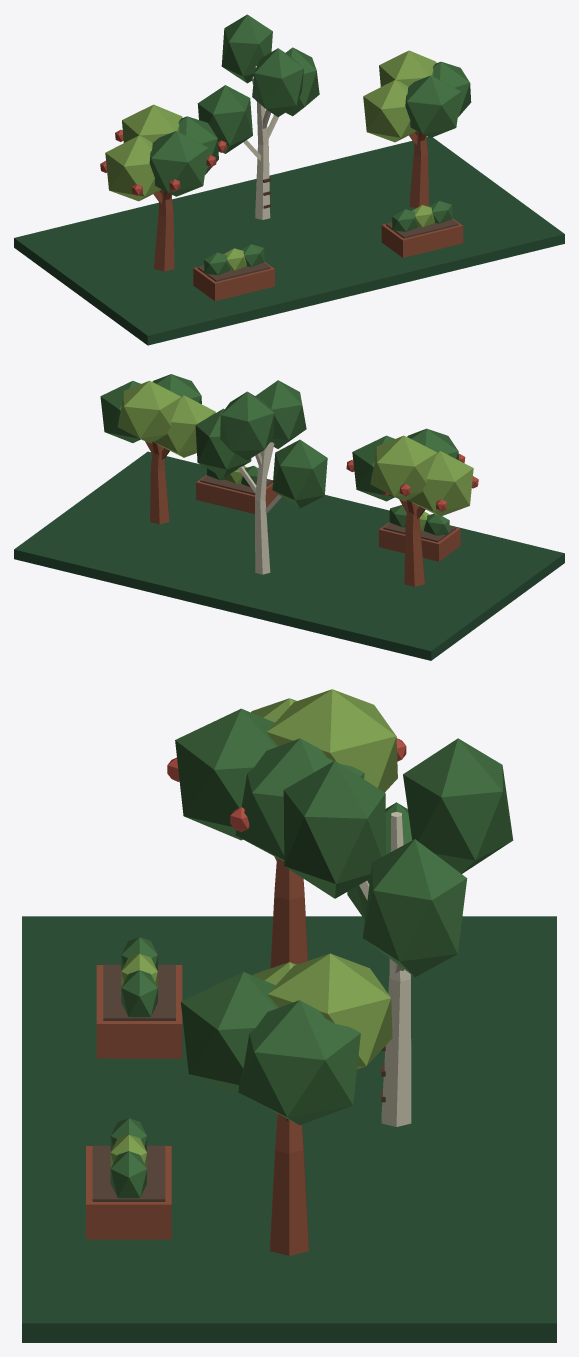
The model's file is Backyard_GardenGrove_Simple.glb.
The picture shows the model from 3 angles, top to bottom: view 1: azimuth 30°, elevation 25°; view 2: azimuth 150°, elevation 25°; view 3: azimuth 270°, elevation 25°; orthographic projection. The views are drawn at different scales.
Parts seen in each view (by area): view 1: Backyard_GardenGrove_Simple; view 2: Backyard_GardenGrove_Simple; view 3: Backyard_GardenGrove_Simple.
Boxes of the visible parts, x1,y1,x2,y2 form: Backyard_GardenGrove_Simple: (14, 14, 564, 345); Backyard_GardenGrove_Simple: (14, 374, 564, 660); Backyard_GardenGrove_Simple: (22, 689, 556, 1342).
Bounding box in the file's own units: 9 × 4.13 × 5.
